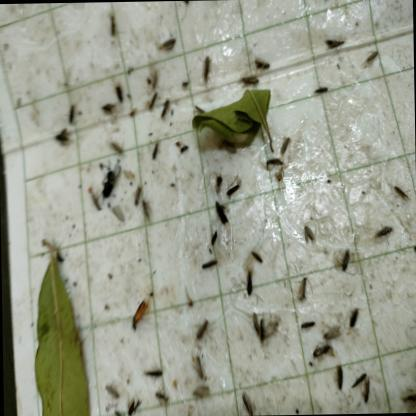prays_oleae: (244, 308, 280, 351), (207, 192, 233, 225), (192, 312, 214, 346), (294, 264, 309, 311), (319, 29, 344, 56), (187, 383, 212, 407), (240, 265, 258, 297), (136, 198, 155, 228), (154, 383, 171, 416), (311, 80, 330, 108), (340, 247, 352, 289), (300, 220, 314, 252), (364, 43, 380, 71), (193, 346, 206, 380), (132, 180, 144, 214), (157, 96, 173, 121), (158, 32, 176, 54), (300, 316, 316, 340), (64, 102, 80, 126), (264, 151, 284, 170), (140, 90, 159, 110), (146, 362, 164, 382), (241, 73, 258, 94), (392, 178, 408, 200), (56, 126, 70, 151), (201, 254, 219, 273), (97, 98, 114, 117), (200, 50, 210, 82), (374, 220, 390, 240), (313, 348, 329, 368), (125, 396, 142, 414), (242, 384, 251, 416), (150, 139, 161, 165), (255, 54, 269, 74), (115, 79, 124, 107), (350, 307, 360, 331), (336, 362, 344, 390), (253, 247, 262, 269), (350, 376, 366, 388), (410, 240, 416, 267), (413, 308, 416, 344)
